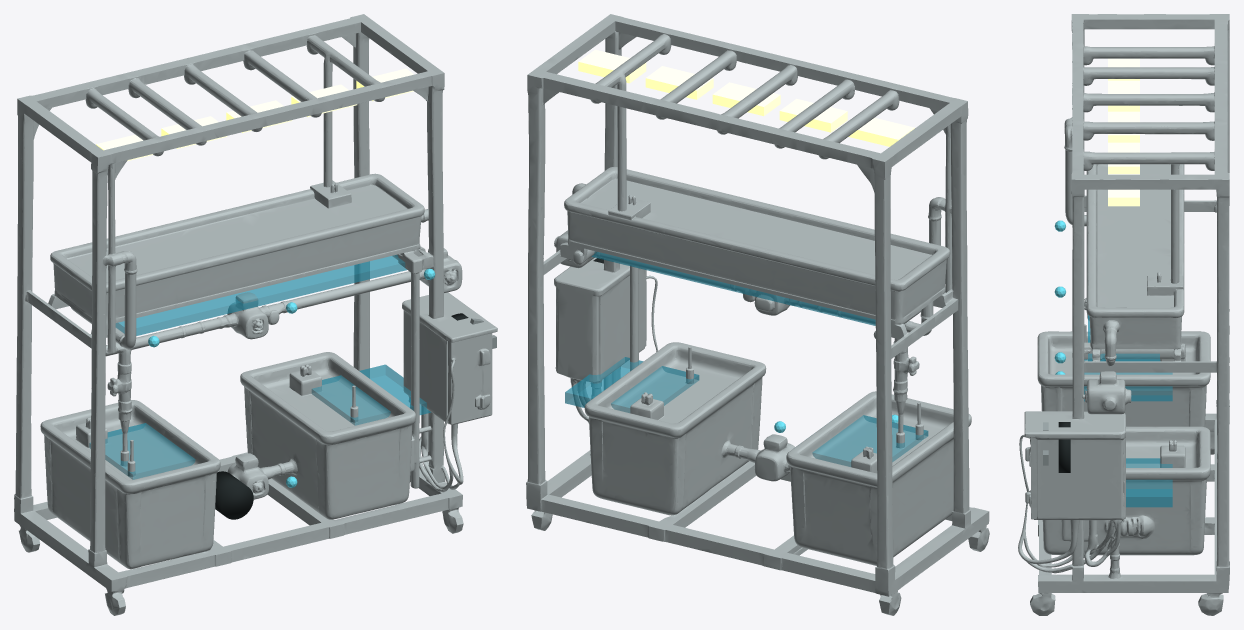
File: greencrop-nat-functional.glb
3 renders of one model, left to right at view 1: azimuth 30°, elevation 25°; view 2: azimuth 150°, elevation 25°; view 3: azimuth 270°, elevation 25°, orthographic. The views are drawn at different scales.
Visible parts, largest first — view 1: model, Water_GrowTray, Water_Tank_Right, Water_Tank_Left, Pump_Housing_01; view 2: model, Water_Tank_Right, Water_Tank_Left, Water_GrowTray, GrowLight_03, GrowLight_02, GrowLight_01, GrowLight_04, GrowLight_05; view 3: model, Water_Tank_Right, Water_Tank_Left, GrowLight_02, GrowLight_03, GrowLight_04, GrowLight_05, Water_GrowTray, Fan_Housing, GrowLight_01.
Boxes of the visible parts, x1,y1,x2,y2 form: model: (14, 14, 497, 615); Water_GrowTray: (115, 255, 406, 335); Water_Tank_Right: (311, 364, 430, 425); Water_Tank_Left: (89, 423, 195, 479); Pump_Housing_01: (215, 471, 253, 519); model: (526, 14, 989, 615); Water_Tank_Right: (565, 357, 699, 412); Water_Tank_Left: (812, 415, 928, 466); Water_GrowTray: (591, 251, 875, 325); GrowLight_03: (712, 82, 780, 116); GrowLight_02: (779, 98, 847, 132); GrowLight_01: (848, 117, 914, 146); GrowLight_04: (645, 66, 713, 99); GrowLight_05: (578, 49, 646, 83); model: (1018, 14, 1229, 615); Water_Tank_Right: (1126, 458, 1172, 507); Water_Tank_Left: (1084, 359, 1172, 401); GrowLight_02: (1108, 80, 1139, 111); GrowLight_03: (1108, 111, 1139, 142); GrowLight_04: (1108, 142, 1139, 173); GrowLight_05: (1108, 174, 1139, 206); Water_GrowTray: (1088, 315, 1159, 361); Fan_Housing: (1058, 422, 1070, 472); GrowLight_01: (1108, 58, 1139, 80).
Size of the model in its own units: 1.73 by 1.9 by 0.8341.
